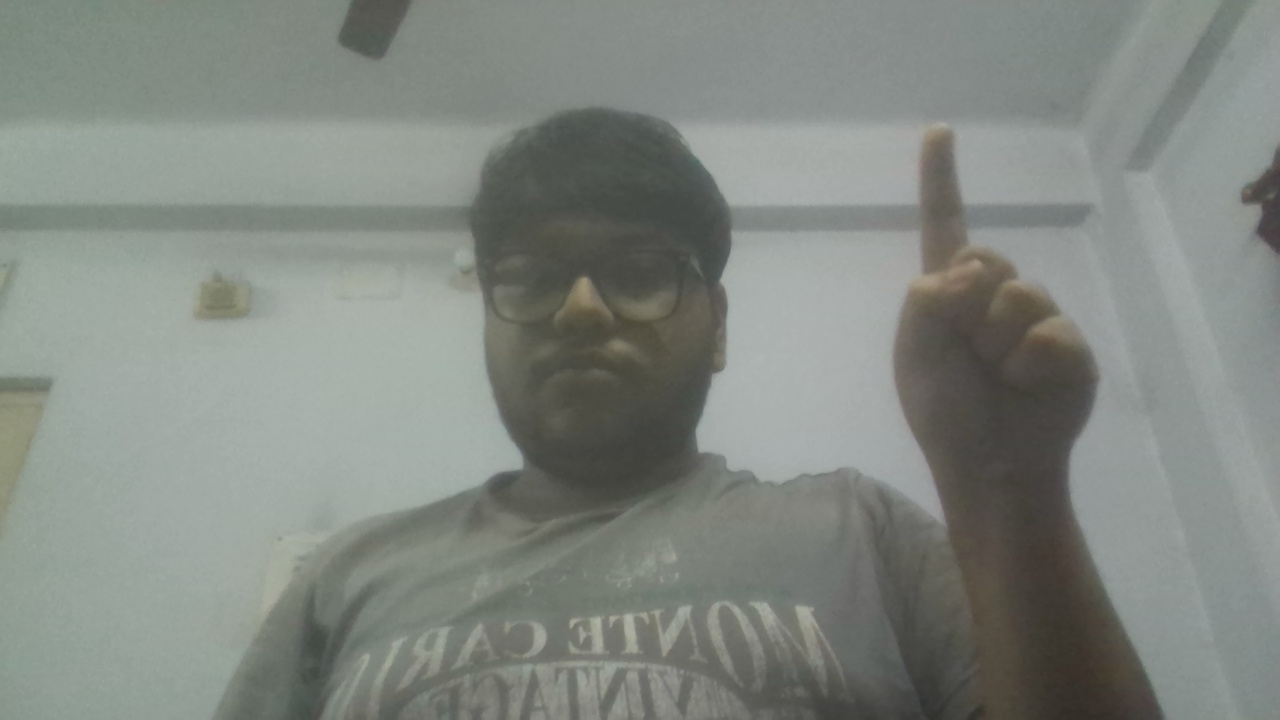Gesture1: (877, 114, 1111, 485)
